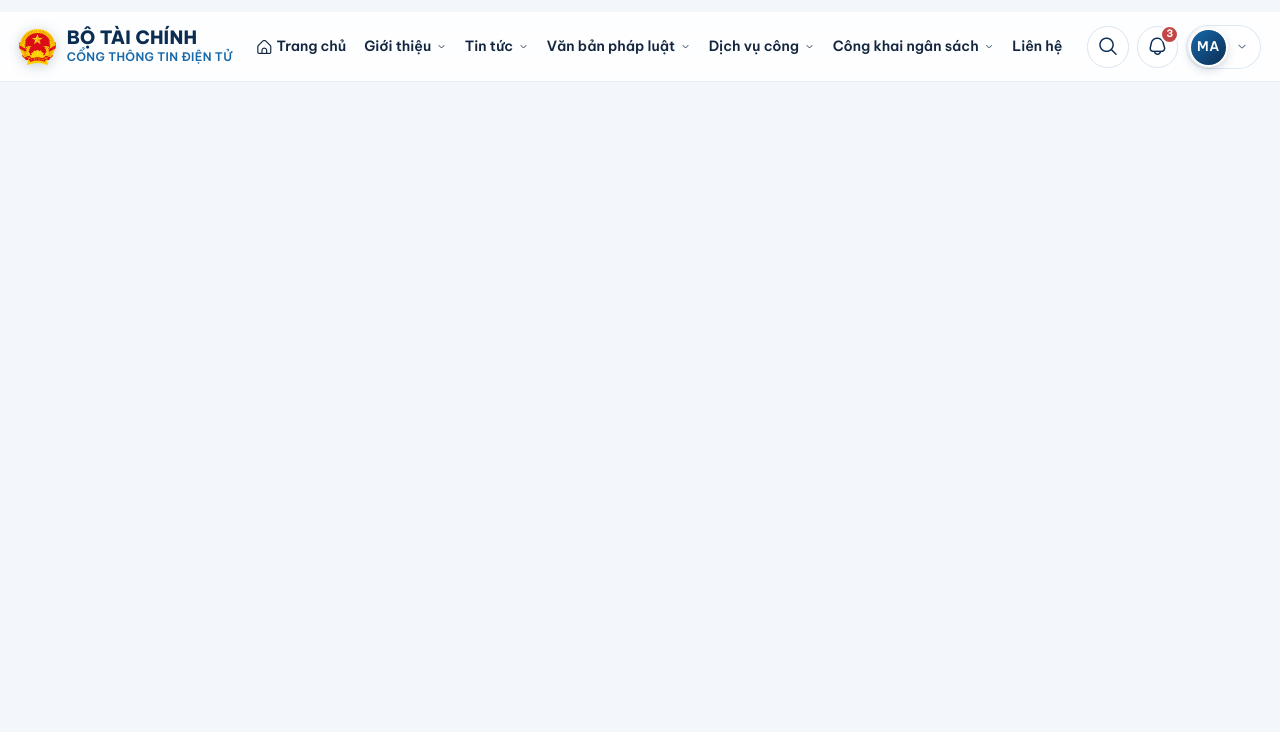
Test: PortalHeaderComponent (auth state) › shows avatar initials + name with a menu, and logs out back to the login link
Click the button with class "user-btn".
click(1224, 47)  # box [1186,25,1261,69]
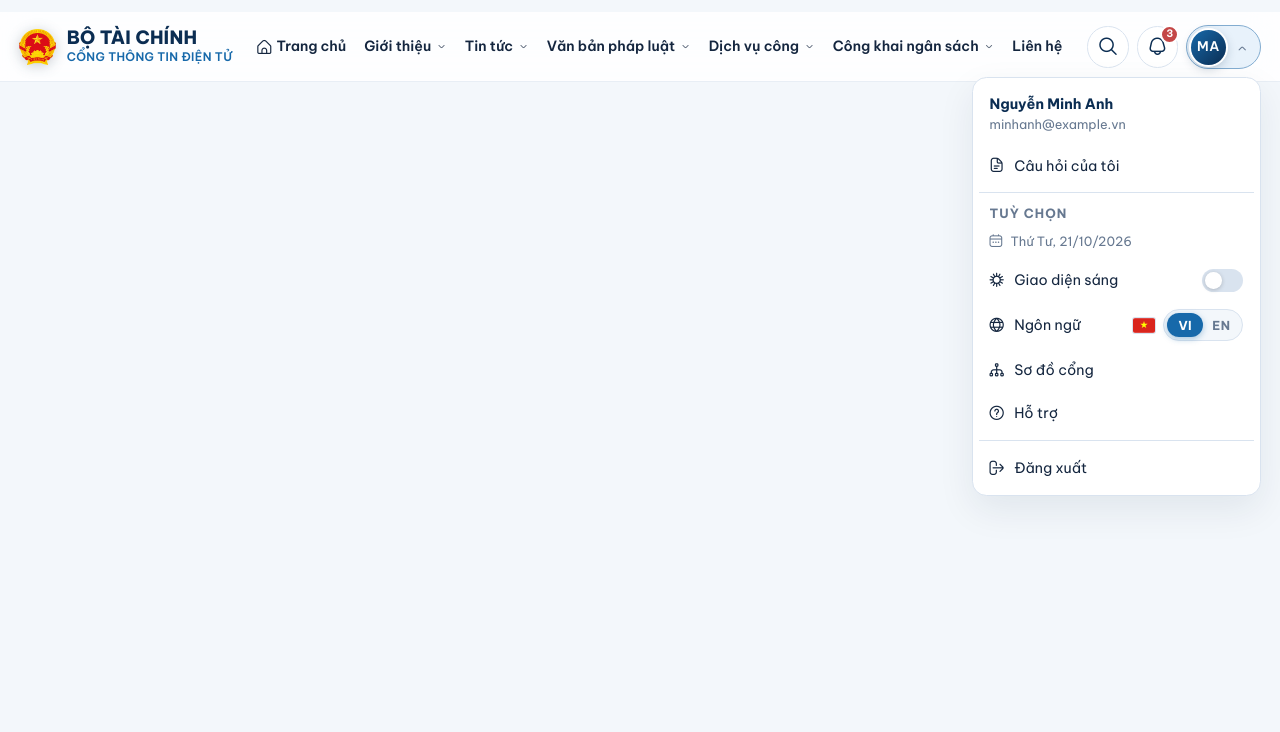
Check: the button with class "user-btn" is expanded, box [1186,25,1261,69]
Check: the menu item to "/portal/cau-hoi-cua-toi" is shown, box [990,156,1120,174]
Click the menu item with class "logout".
click(1051, 468)  # box [979,447,1254,489]
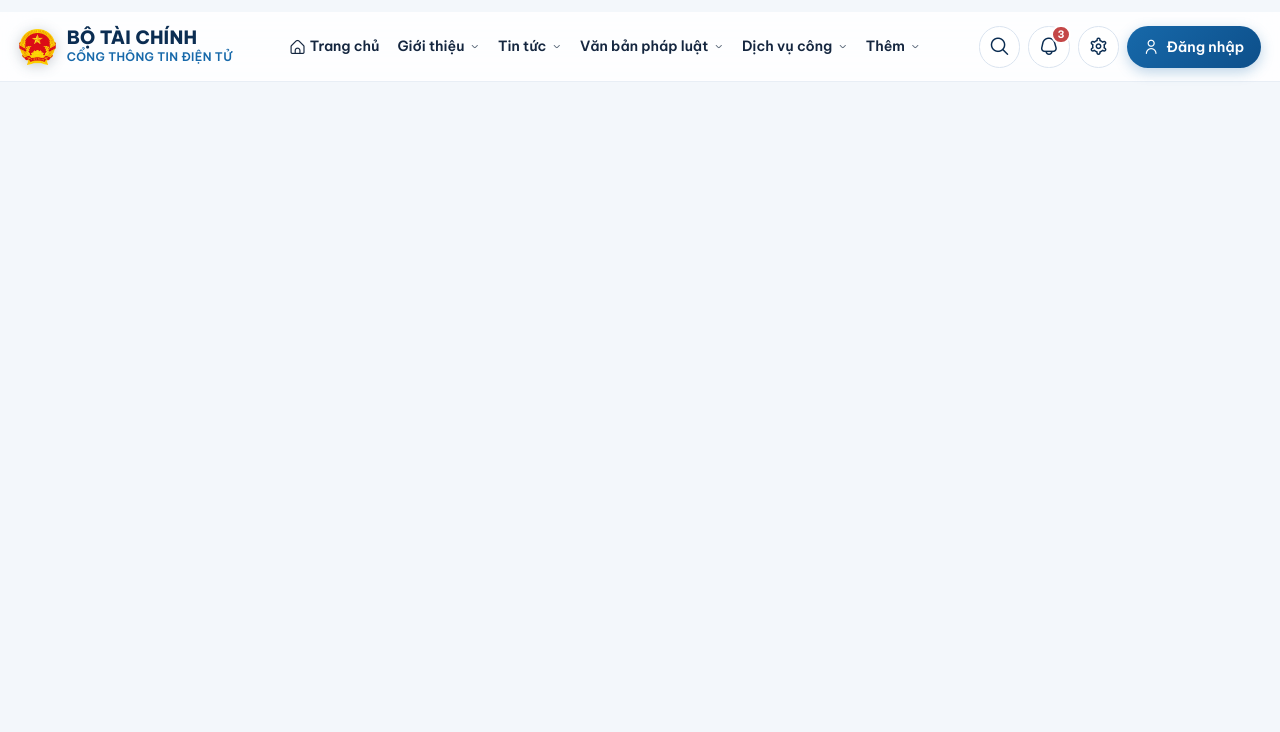
Check: the link with class "login-btn" is shown, box [1127,26,1261,68]
